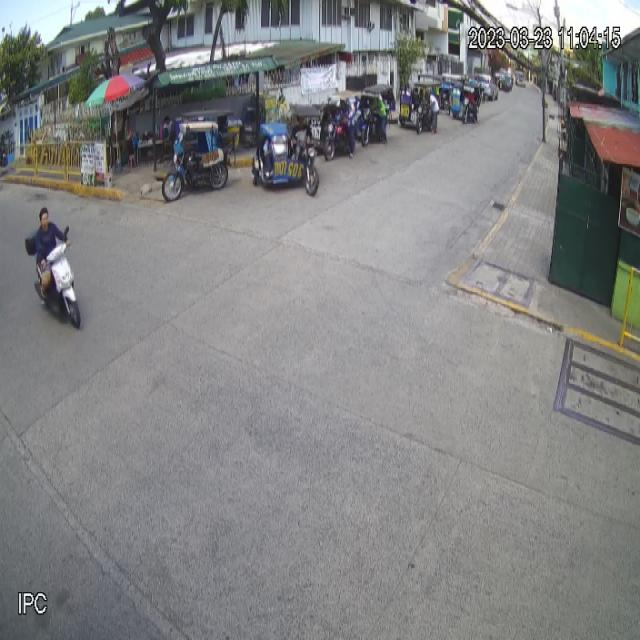Motorcycle: (25, 224, 81, 330)
Tricycle: (251, 104, 320, 198), (162, 110, 232, 202)
